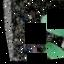Purslane: (4, 0, 64, 64)
